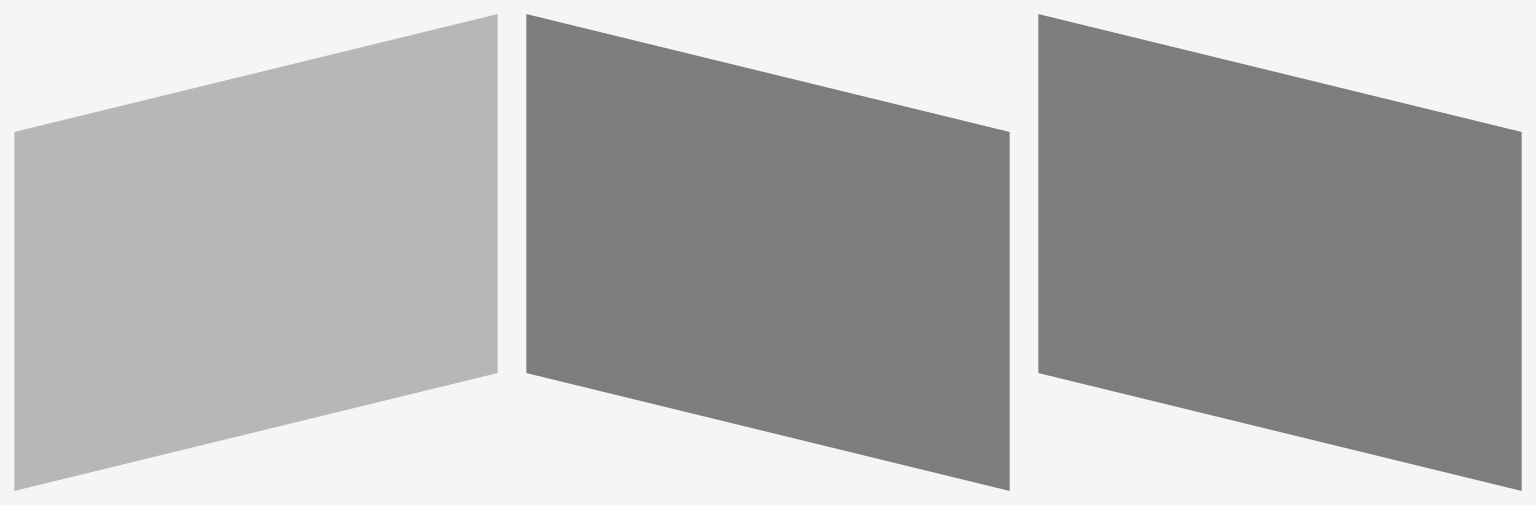
The model's file is bandera.obj.
3 renders of one model, left to right at view 1: azimuth 30°, elevation 25°; view 2: azimuth 150°, elevation 25°; view 3: azimuth 330°, elevation 25°, orthographic.
Parts seen in each view (by area): view 1: bandera; view 2: bandera; view 3: bandera.
Boxes of the visible parts, left/top/right/bottom form: bandera: left=14, top=14, right=497, bottom=490; bandera: left=526, top=14, right=1009, bottom=490; bandera: left=1038, top=14, right=1521, bottom=490.
Size of the model in its own units: 3.26 by 2.31 by 0.
1 material, 1 textured.
